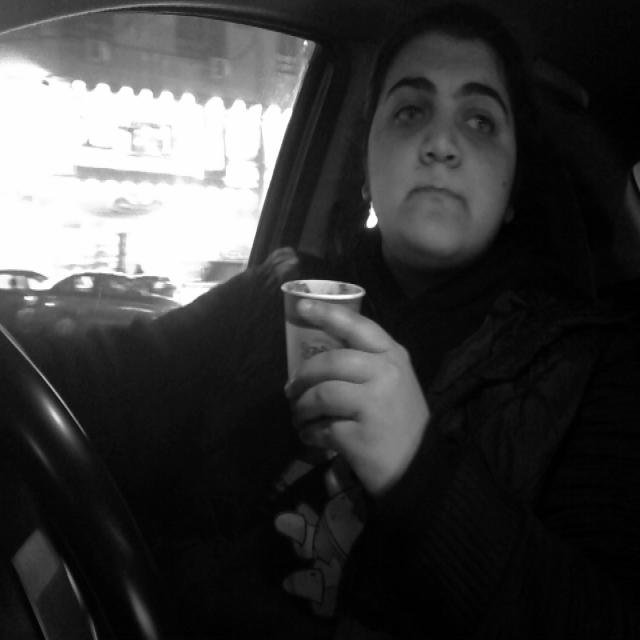drinking: (277, 280, 367, 408)
